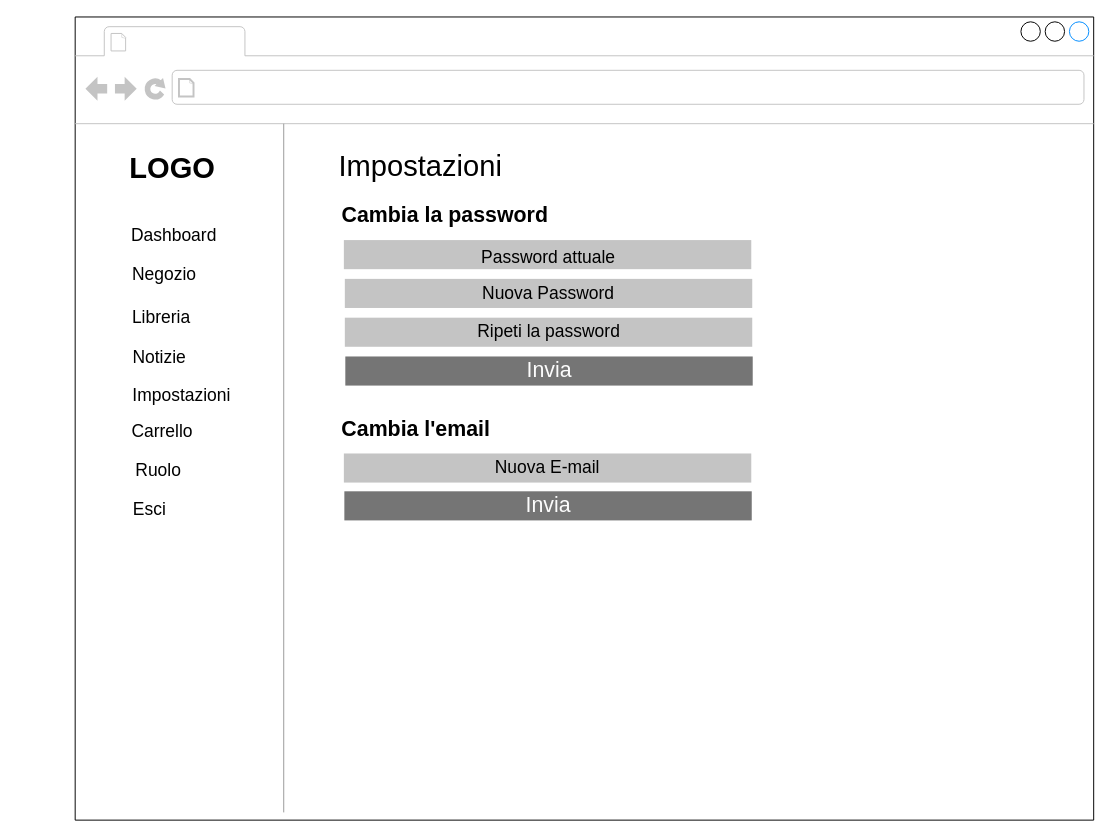
This 1111x837 diagram has some shape labels left out. Here are the shapes that lost their labels. From the top down, the centre of each, then its label:
At point (186, 41): "Page 1".
At point (322, 87): "https://www.default.com".
